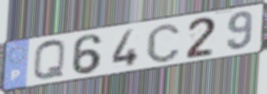2: (185, 16, 218, 61)
4: (110, 27, 141, 69)
6: (70, 32, 105, 76)
9: (225, 9, 254, 53)
C: (144, 21, 182, 64)
Q: (32, 38, 68, 82)
